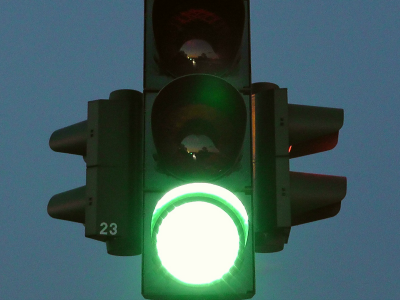trafficlight_green: (148, 2, 252, 292)
